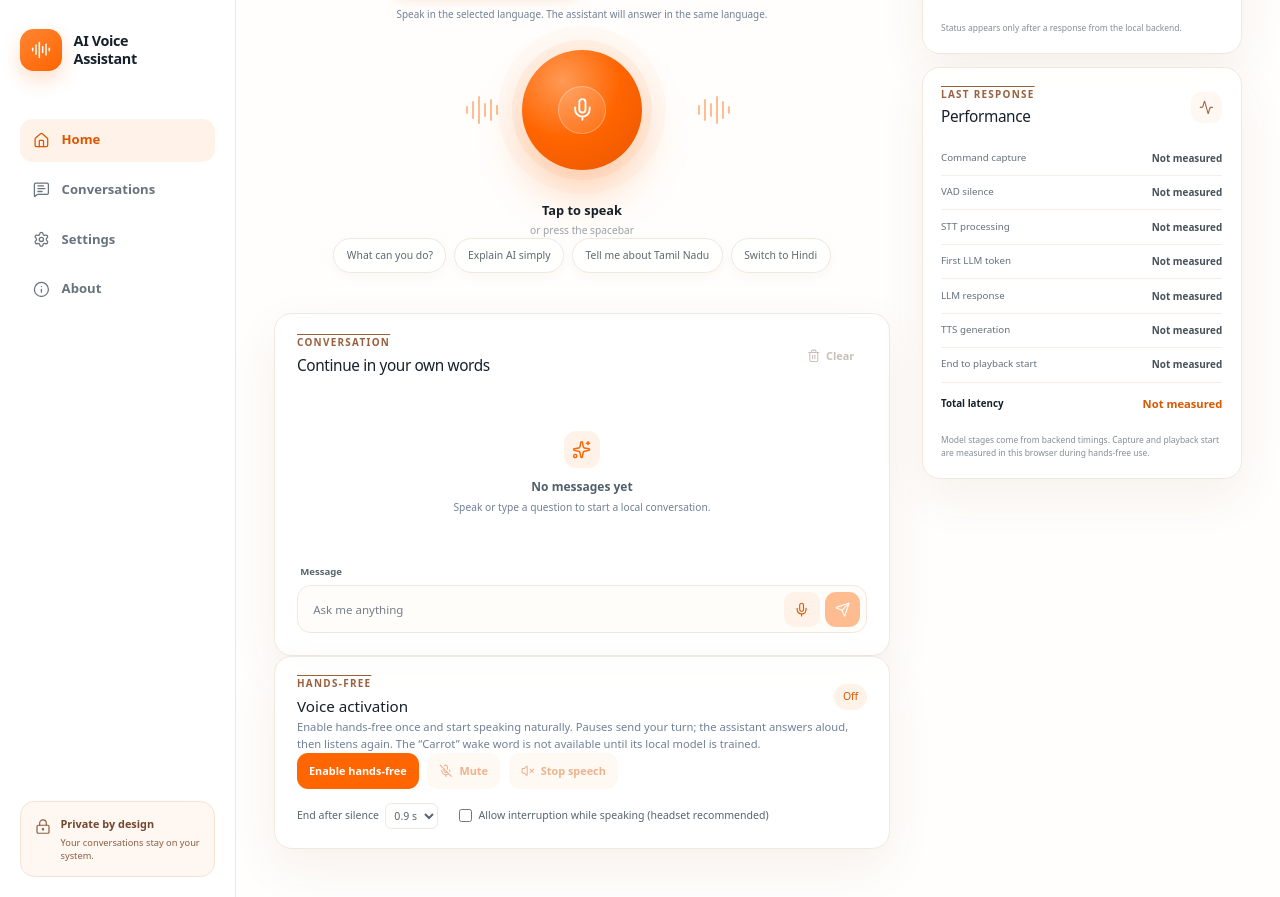
Scenario: AI Voice Assistant › sends text to the backend and displays its actual response
(page scrolled)
In the field labelled "Message": x=541, y=609 [304,592,779,627], type "Hello local model"
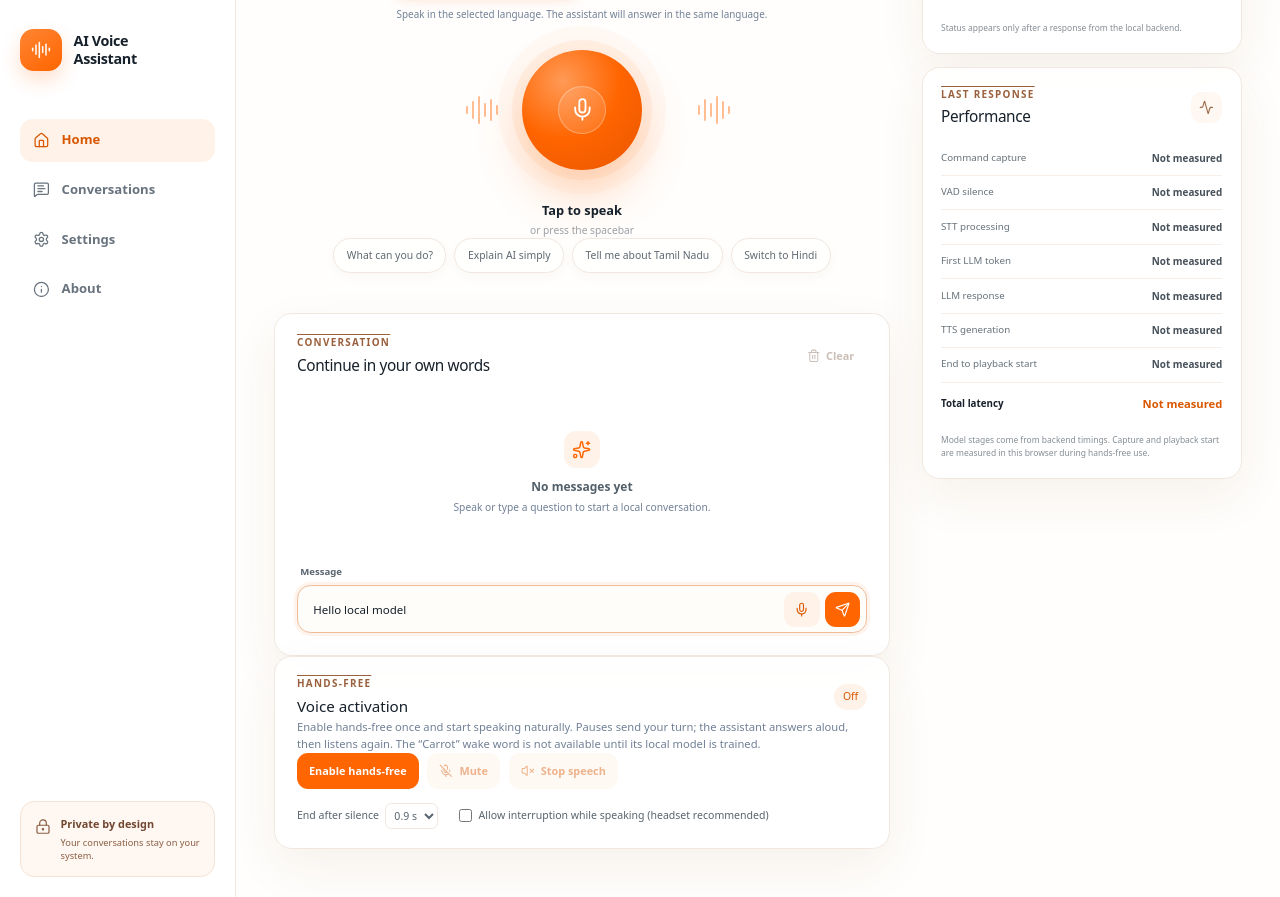
Click the button named "Send message": x=843, y=609 [825,592,860,627]
(page scrolled)
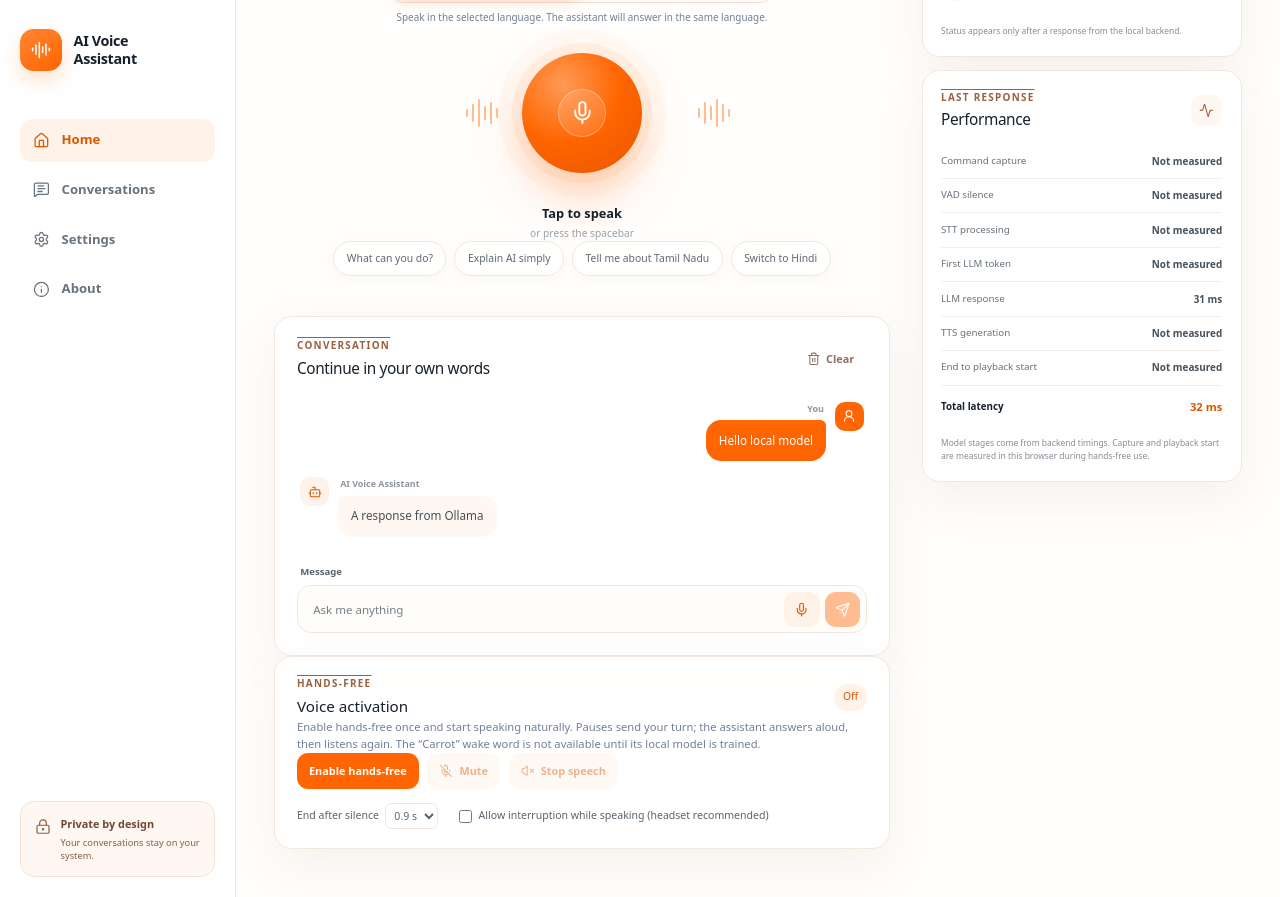
Expected: the text "A response from Ollama" is shown, [338,496,497,537]
Click the button "Clear": x=830, y=359 [794,341,867,376]
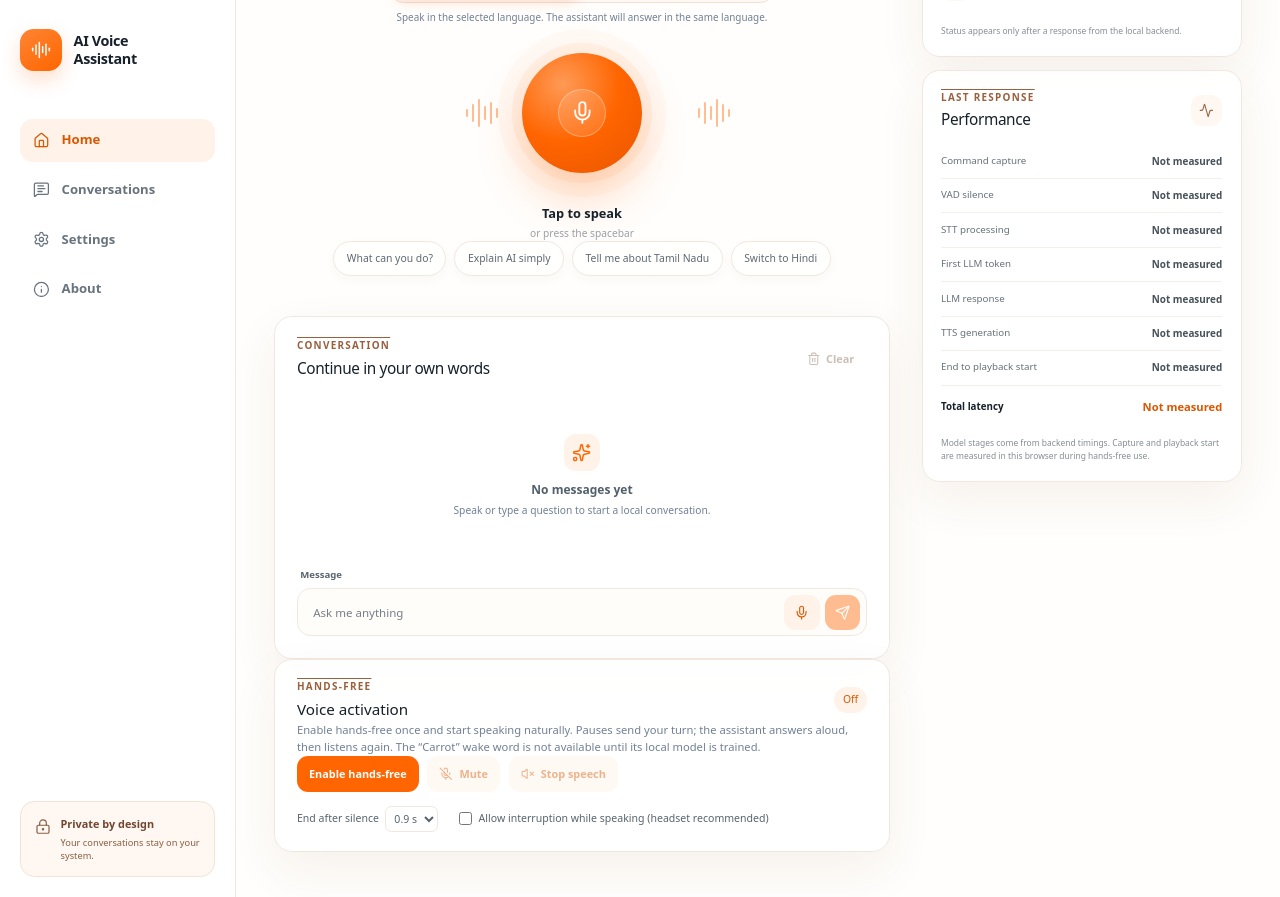
Expected: the text "No messages yet" is shown, [531,481,633,499]
